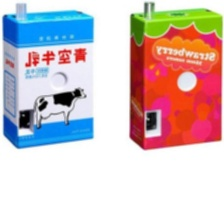carton: (118, 5, 223, 155), (0, 3, 97, 154)
